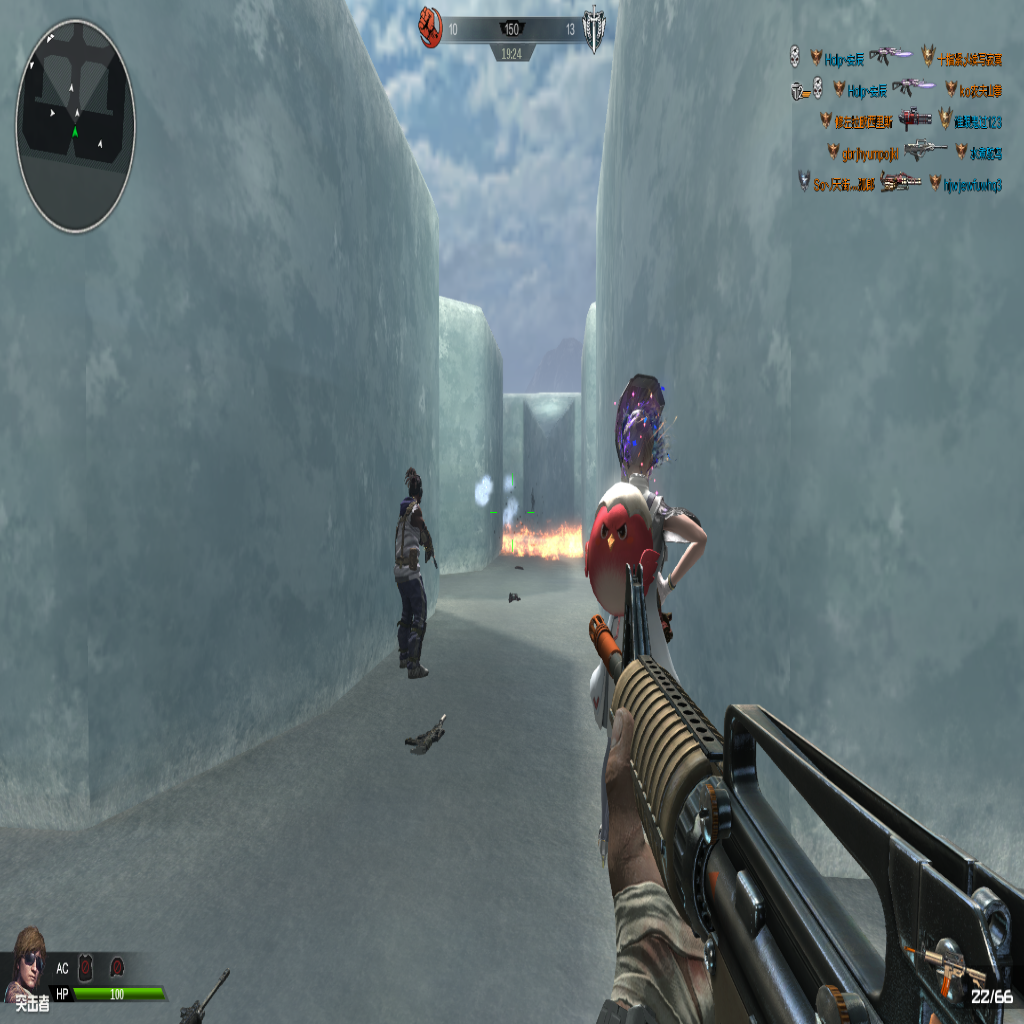tt: (391, 465, 437, 683)
